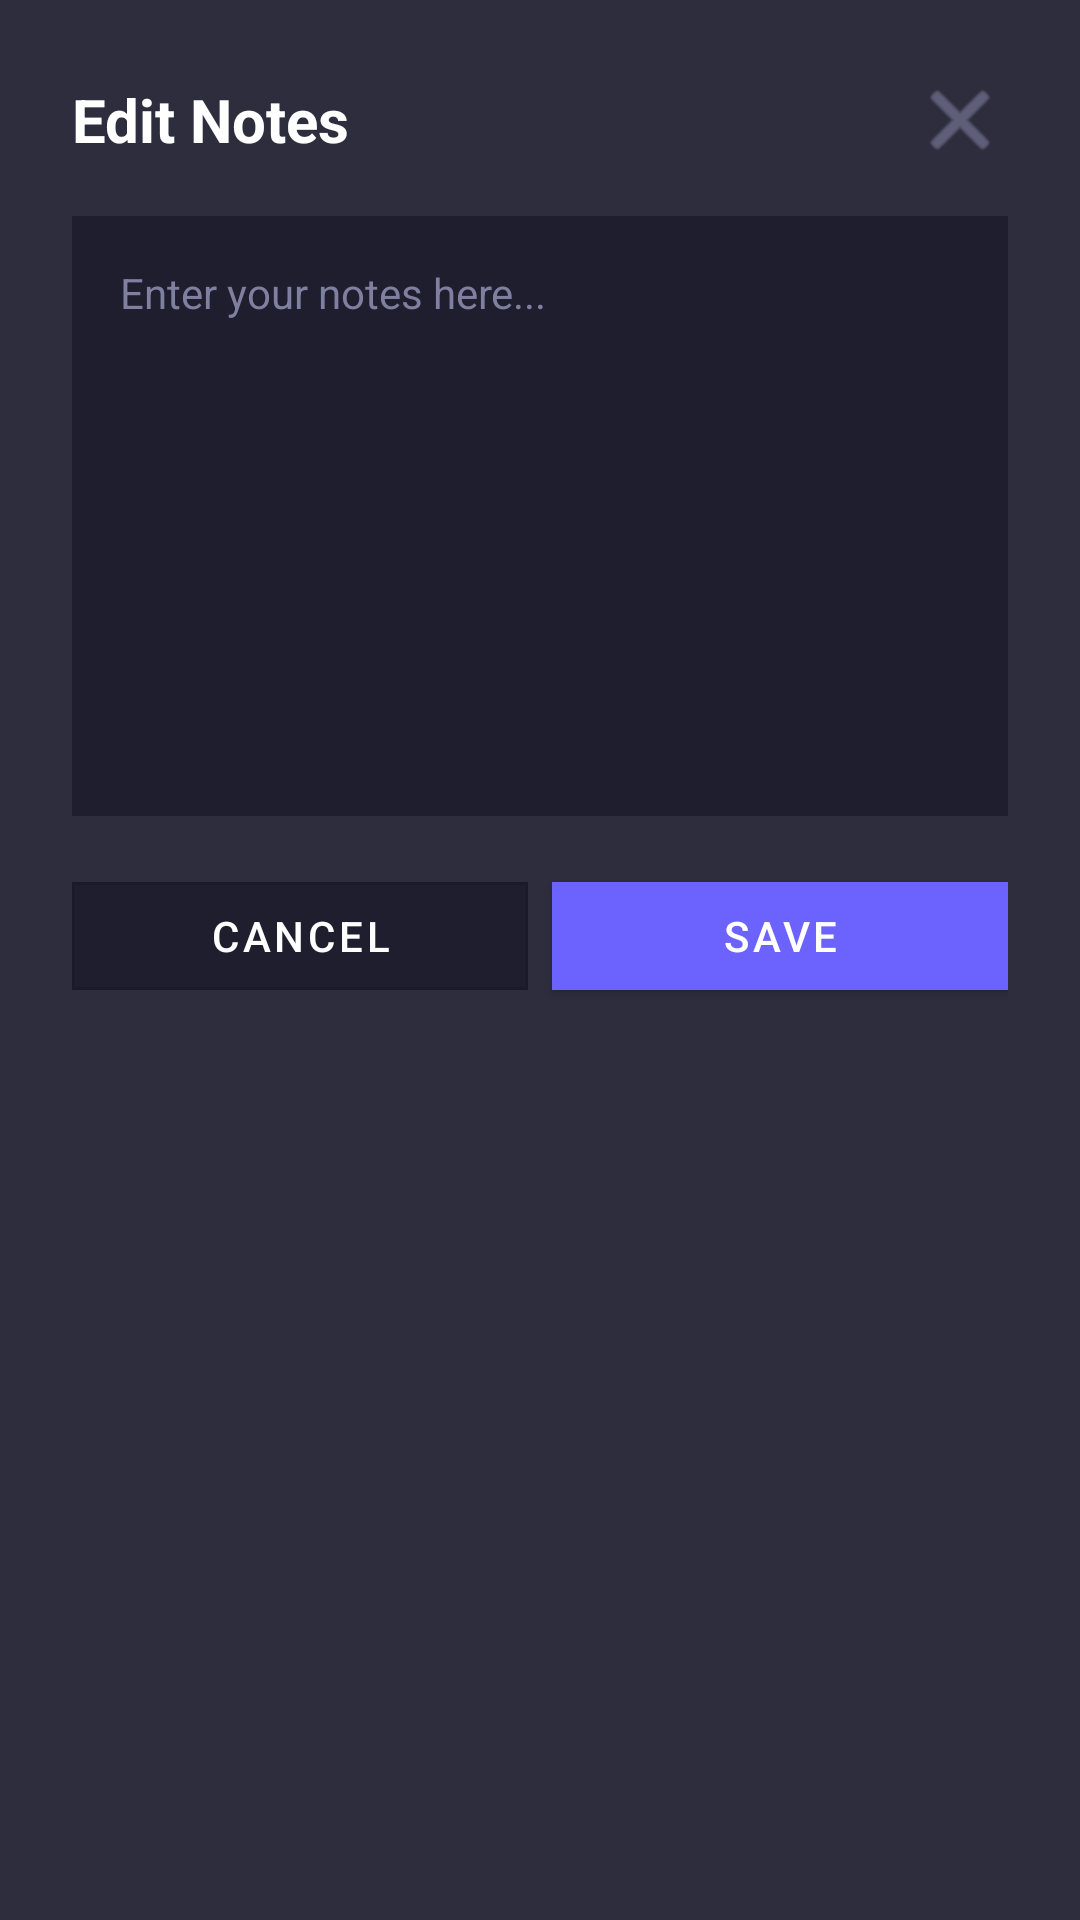

Point at icon controls on the screen. Image size 1080w x 1920h, points as (x,y).
close clear cancel: (960,120)
